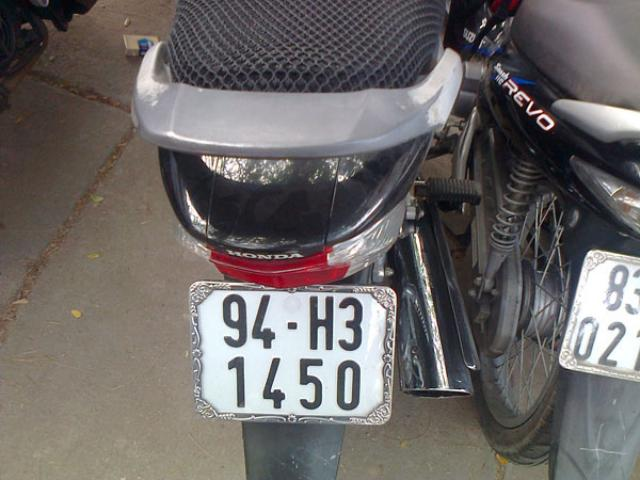plate: (197, 286, 389, 426)
